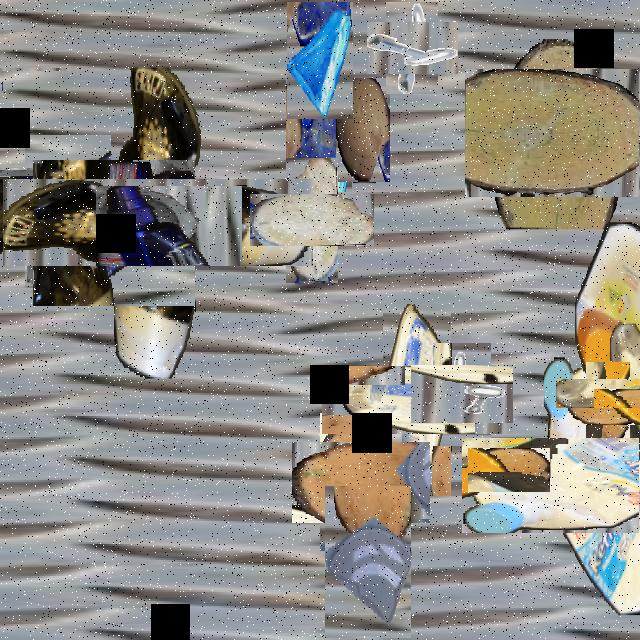glass: (8, 152, 128, 271), (325, 486, 411, 638), (286, 75, 352, 192), (287, 2, 353, 119), (0, 35, 36, 104)
metal: (422, 354, 502, 435), (376, 12, 448, 84)
plastic: (59, 123, 258, 321), (503, 396, 640, 574), (33, 160, 195, 306), (352, 335, 482, 465), (575, 222, 640, 404), (583, 350, 640, 435)
wood: (480, 54, 638, 213), (306, 427, 416, 537), (268, 176, 356, 265), (336, 78, 390, 182), (576, 372, 640, 435)
